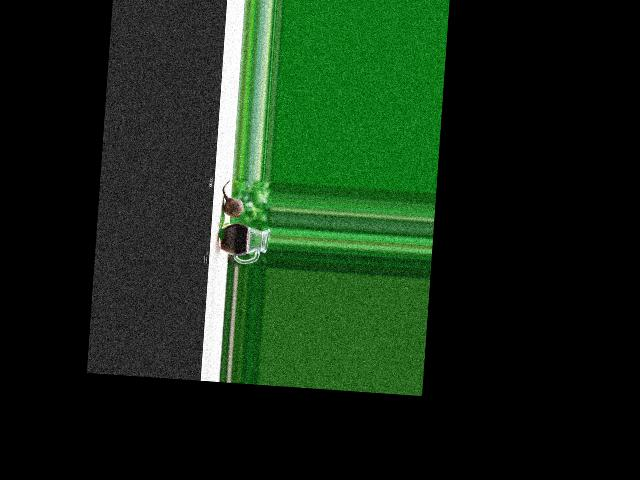beet: (220, 180, 244, 218)
